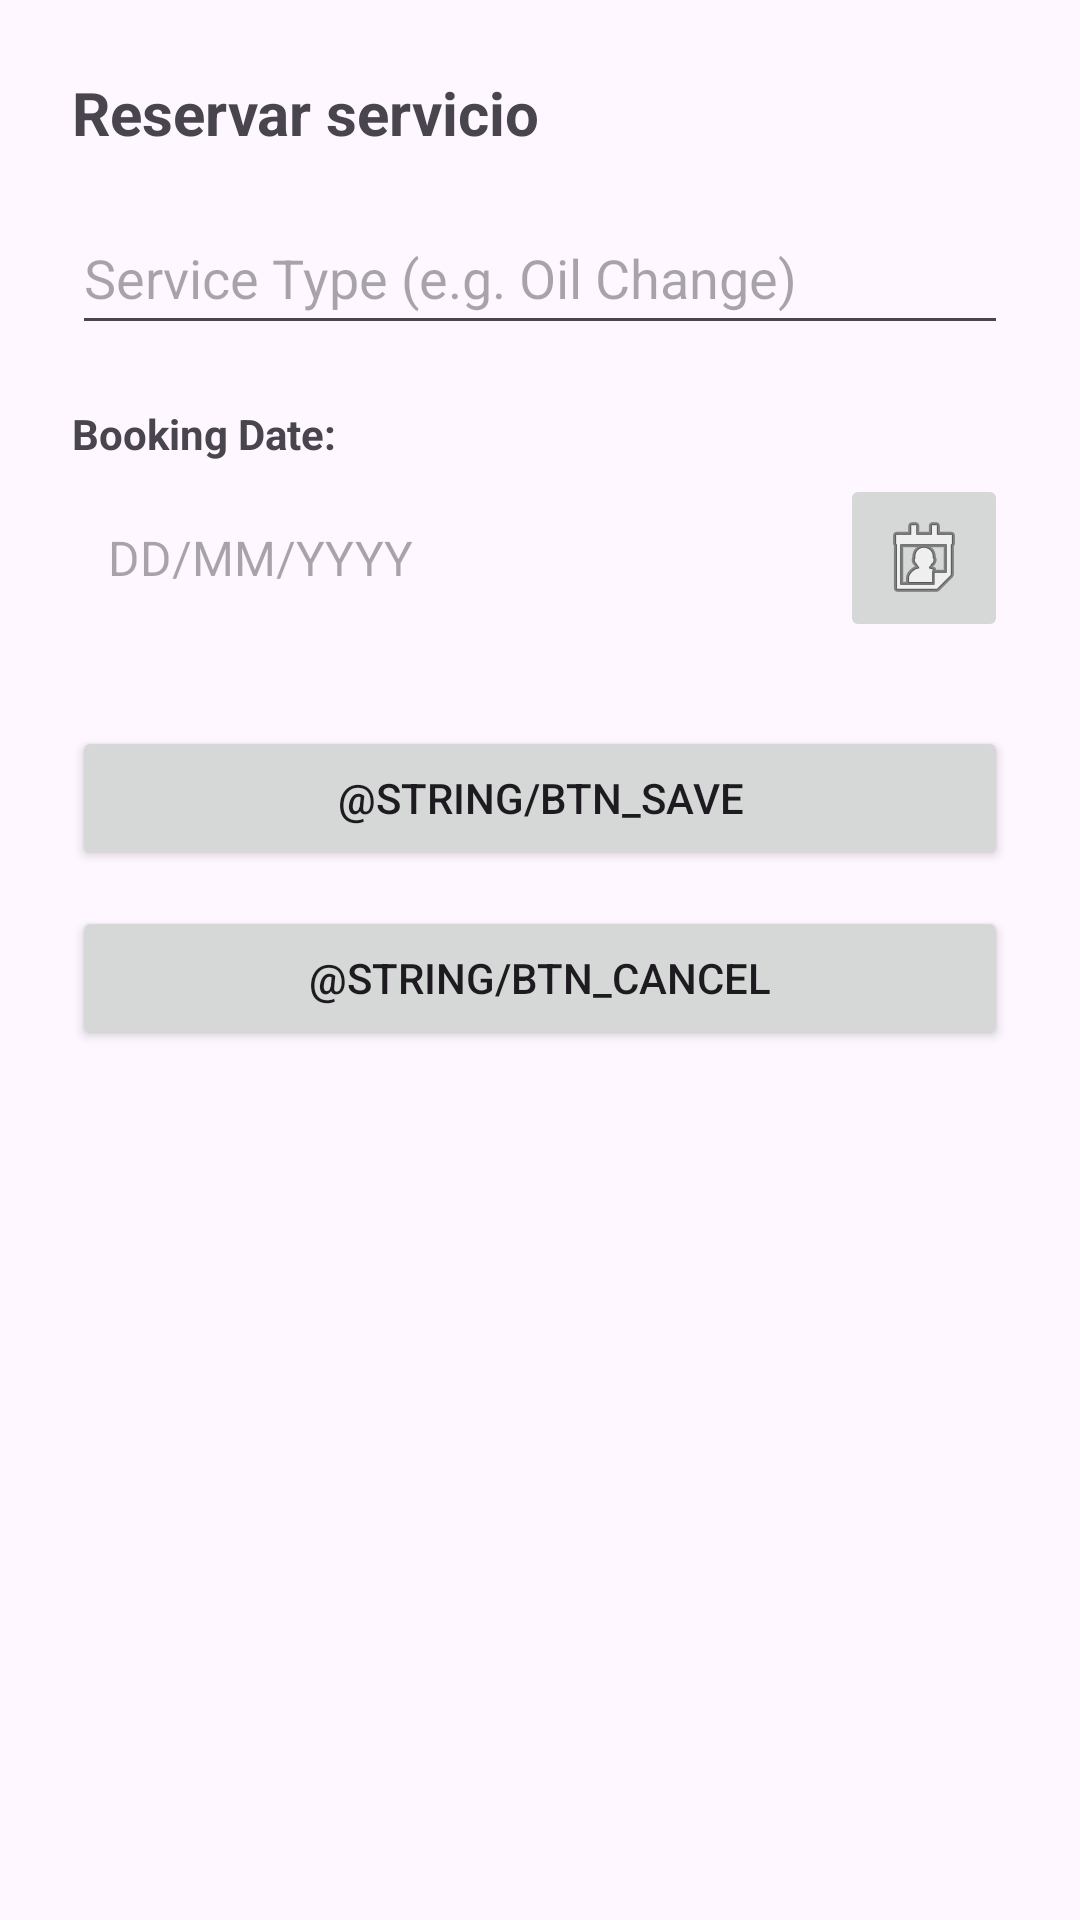

Icons on this 1080px x 1920px Android screen, each with the point to tap as (x=x, y=y):
Select Date: (x=924, y=558)
